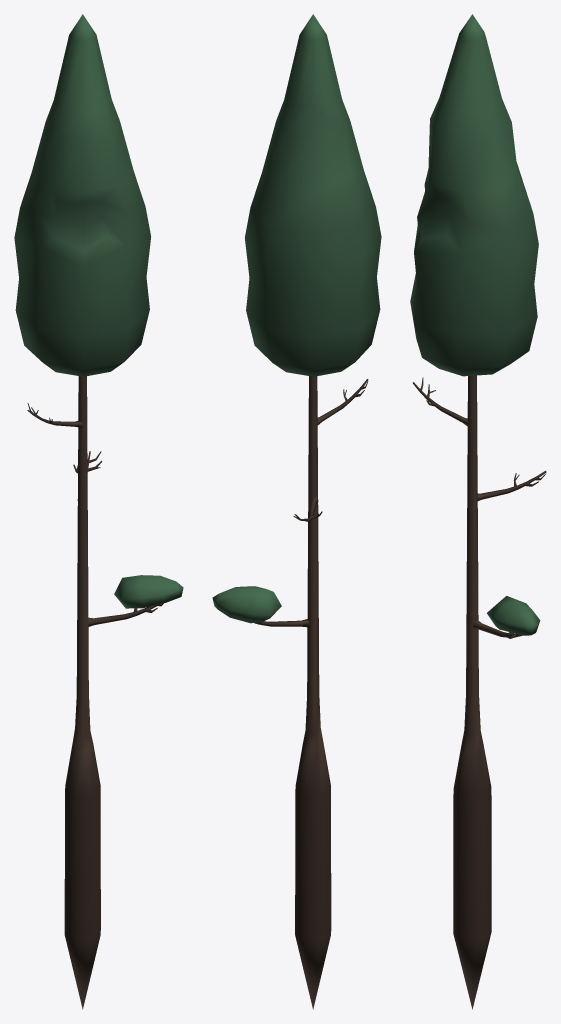
Rendered from trees-conifers-cypress-sapling_v3.glb.
3 views of the same model, side by side, from view 1: azimuth 30°, elevation 25°; view 2: azimuth 210°, elevation 25°; view 3: azimuth 330°, elevation 25° (orthographic).
Visible parts, largest first — view 1: Cypress Sapling_v3; view 2: Cypress Sapling_v3; view 3: Cypress Sapling_v3.
Boxes of the visible parts, <box> form: Cypress Sapling_v3: <box>14,14,183,1009</box>; Cypress Sapling_v3: <box>212,14,381,1009</box>; Cypress Sapling_v3: <box>410,14,546,1009</box>.
Size of the model in its own units: 0.4359 by 3 by 0.3525.
